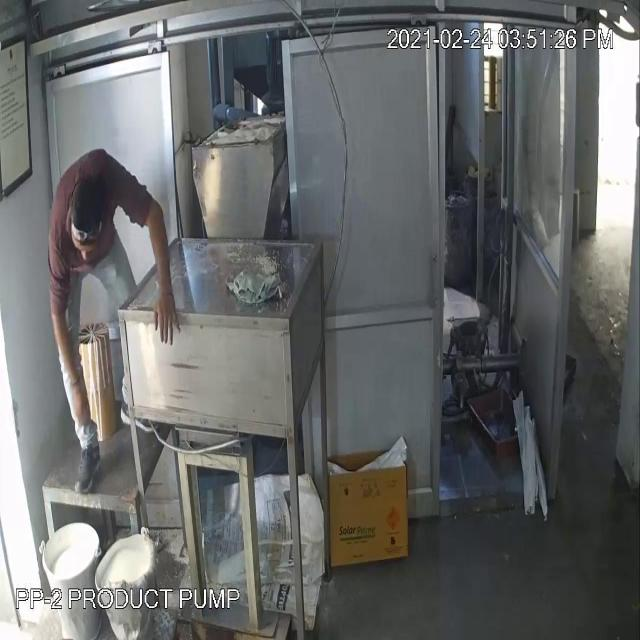no-helmet: (69, 167, 113, 262)
